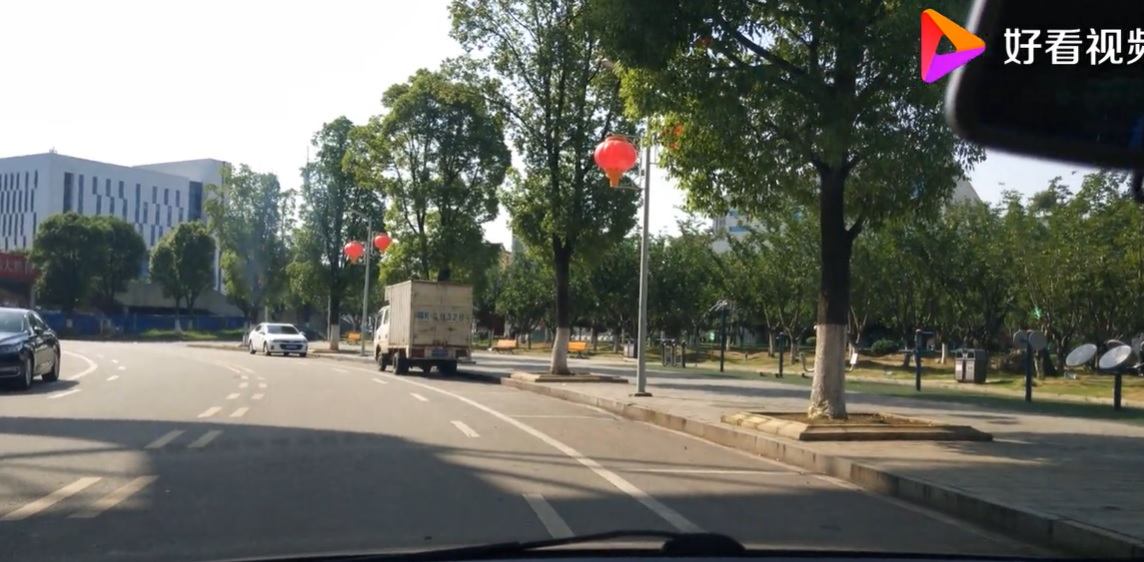slot_nocar: (590, 452, 1111, 562), (471, 403, 848, 487), (431, 381, 644, 431)
